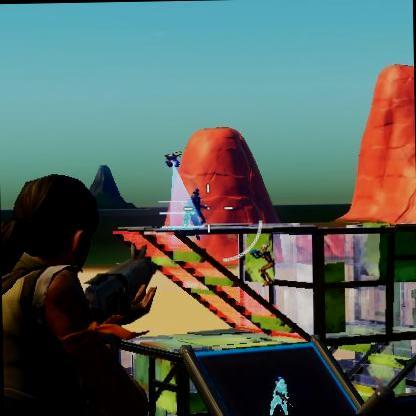person: (253, 244, 274, 285), (269, 378, 291, 414), (188, 182, 202, 226)
